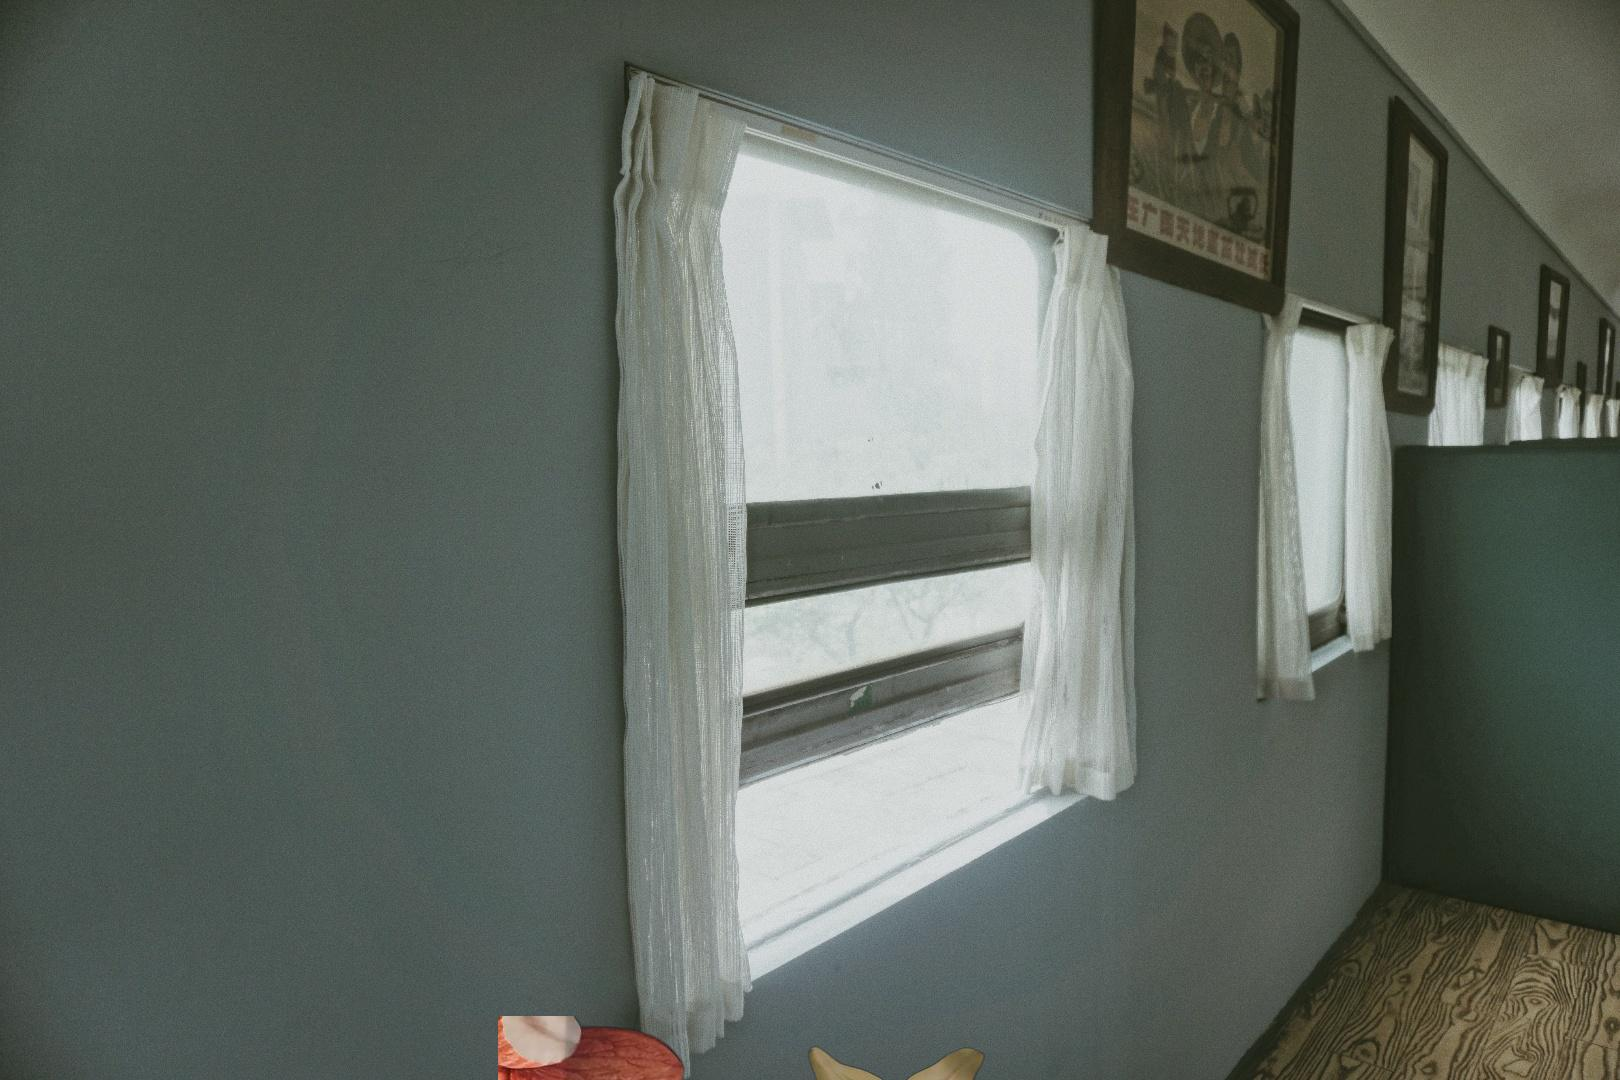biological: (1525, 229, 1620, 391)
trashbox-cardboard: (498, 1016, 1010, 1080)
